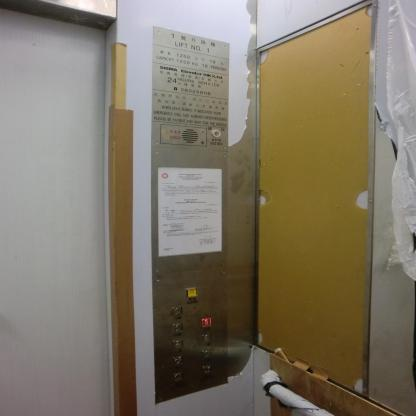1: (202, 350, 211, 360)
2: (172, 338, 183, 349)
3: (202, 333, 211, 343)
4: (172, 322, 182, 334)
5: (202, 318, 211, 327)
6: (171, 306, 182, 316)
alarm: (186, 287, 197, 297)
close: (202, 365, 212, 374)
open: (172, 371, 184, 382)
sG: (172, 355, 182, 366)
